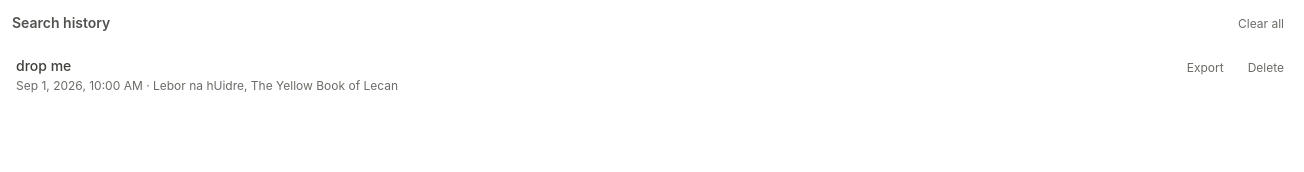
Test case: removing entries › keeps the entry on screen when the delete failed — it is still there
Click the button "Delete".
click(1266, 68)  # box [1240,56,1292,80]
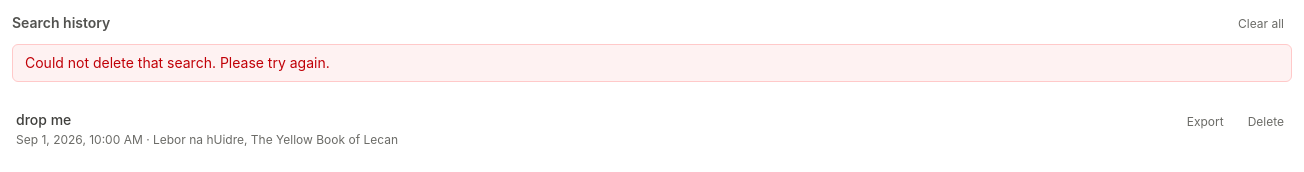
Expected: the text "drop me" is shown, [16,111,71,128]
Now the message shows "Could not delete", box [25,54,330,71]
